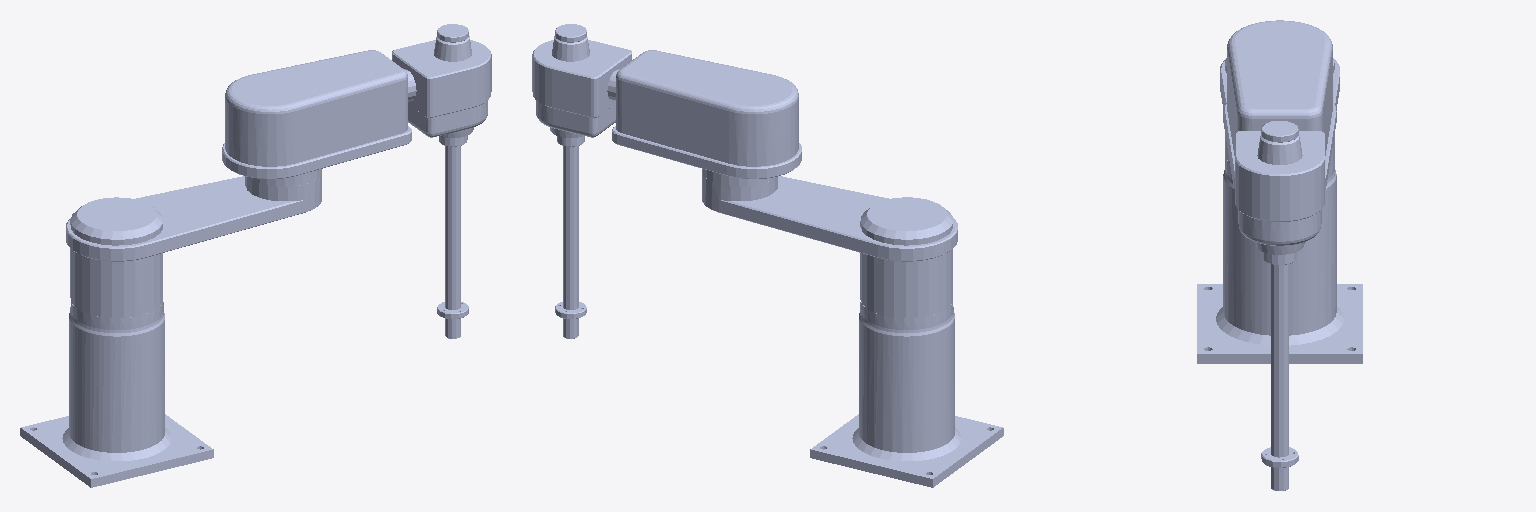
robot.urdf — ROBOT__:
<?xml version="1.0" encoding="utf-8"?>
<!-- This URDF was automatically created by SolidWorks to URDF Exporter! Originally created by [author] ([email redacted]) 
     Commit Version: 1.6.0-4-g7f85cfe  Build Version: 1.6.7995.38578
     For more information, please see http://wiki.ros.org/sw_urdf_exporter -->
<robot
  name="ROBOT__">
  <link
    name="link0">
    <inertial>
      <origin
        xyz="1.38777878078145E-17 -3.05311331771918E-16 0.0992502023025512"
        rpy="0 0 0" />
      <mass
        value="2.36614395016525" />
      <inertia
        ixx="0.0239604232004193"
        ixy="3.27069420018434E-19"
        ixz="-3.28369050018408E-20"
        iyy="0.0239604232004193"
        iyz="3.52967160809808E-17"
        izz="0.0131287866068944" />
    </inertial>
    <visual>
      <origin
        xyz="0 0 0"
        rpy="0 0 0" />
      <geometry>
        <mesh
          filename="package://ROBOT__/meshes/link0.STL" />
      </geometry>
      <material
        name="">
        <color
          rgba="0.792156862745098 0.819607843137255 0.933333333333333 1" />
      </material>
    </visual>
    <collision>
      <origin
        xyz="0 0 0"
        rpy="0 0 0" />
      <geometry>
        <mesh
          filename="package://ROBOT__/meshes/link0.STL" />
      </geometry>
    </collision>
  </link>
  <link
    name="link1">
    <inertial>
      <origin
        xyz="0.0574869815541638 6.65274617339673E-09 0.0796099540199501"
        rpy="0 0 0" />
      <mass
        value="3.68668726873835" />
      <inertia
        ixx="0.0126816223132715"
        ixy="-4.37279856535673E-09"
        ixz="-0.00763034806468519"
        iyy="0.0504684019814241"
        iyz="-8.84822892282731E-10"
        izz="0.0479436803580724" />
    </inertial>
    <visual>
      <origin
        xyz="0 0 0"
        rpy="0 0 0" />
      <geometry>
        <mesh
          filename="package://ROBOT__/meshes/link1.STL" />
      </geometry>
      <material
        name="">
        <color
          rgba="0.792156862745098 0.819607843137255 0.933333333333333 1" />
      </material>
    </visual>
    <collision>
      <origin
        xyz="0 0 0"
        rpy="0 0 0" />
      <geometry>
        <mesh
          filename="package://ROBOT__/meshes/link1.STL" />
      </geometry>
    </collision>
  </link>
  <joint
    name="joint1"
    type="revolute">
    <origin
      xyz="0 0 0.255"
      rpy="0 0 0" />
    <parent
      link="link0" />
    <child
      link="link1" />
    <axis
      xyz="0 0 1" />
    <limit
      lower="-3.0212"
      upper="3.0212"
      effort="0"
      velocity="0" />
  </joint>
  <link
    name="link2">
    <inertial>
      <origin
        xyz="0.0436235567711747 6.80665933242147E-05 -0.0197303381476708"
        rpy="0 0 0" />
      <mass
        value="4.6574337991903" />
      <inertia
        ixx="0.0142576565673701"
        ixy="-7.81626748920301E-09"
        ixz="-0.00150571972490271"
        iyy="0.03594745327186"
        iyz="1.16820022946832E-08"
        izz="0.0339277796618331" />
    </inertial>
    <visual>
      <origin
        xyz="0 0 0"
        rpy="0 0 0" />
      <geometry>
        <mesh
          filename="package://ROBOT__/meshes/link2.STL" />
      </geometry>
      <material
        name="">
        <color
          rgba="0.792156862745098 0.819607843137255 0.933333333333333 1" />
      </material>
    </visual>
    <collision>
      <origin
        xyz="0 0 0"
        rpy="0 0 0" />
      <geometry>
        <mesh
          filename="package://ROBOT__/meshes/link2.STL" />
      </geometry>
    </collision>
  </link>
  <joint
    name="joint2"
    type="revolute">
    <origin
      xyz="0.3 -6.79764686479928E-05 0.245"
      rpy="0 0 0" />
    <parent
      link="link1" />
    <child
      link="link2" />
    <axis
      xyz="0 0 1" />
    <limit
      lower="-2.9137"
      upper="2.9137"
      effort="0"
      velocity="0" />
  </joint>
  <link
    name="link3">
    <inertial>
      <origin
        xyz="6.80372782028704E-05 -0.016017573784558 0.276878946021212"
        rpy="0 0 0" />
      <mass
        value="1.83343892308313" />
      <inertia
        ixx="0.00680664574347923"
        ixy="7.72632032359643E-10"
        ixz="-6.14961283638531E-10"
        iyy="0.00633233079084925"
        iyz="0.00037752167169802"
        izz="0.00381101630008453" />
    </inertial>
    <visual>
      <origin
        xyz="0 0 0"
        rpy="0 0 0" />
      <geometry>
        <mesh
          filename="package://ROBOT__/meshes/link3.STL" />
      </geometry>
      <material
        name="">
        <color
          rgba="0.792156862745098 0.819607843137255 0.933333333333333 1" />
      </material>
    </visual>
    <collision>
      <origin
        xyz="0 0 0"
        rpy="0 0 0" />
      <geometry>
        <mesh
          filename="package://ROBOT__/meshes/link3.STL" />
      </geometry>
    </collision>
  </link>
  <joint
    name="joint3"
    type="revolute">
    <origin
      xyz="0 0 0"
      rpy="1.5707963267949 0 1.5707963267949" />
    <parent
      link="link2" />
    <child
      link="link3" />
    <axis
      xyz="0 0 1" />
    <limit
      lower="-1.5708"
      upper="1.5708"
      effort="0"
      velocity="0" />
  </joint>
  <link
    name="rev">
    <inertial>
      <origin
        xyz="-6.81577913612119E-05 -1.77635683940025E-15 -0.0899999999998803"
        rpy="0 0 0" />
      <mass
        value="0.0235619449019235" />
      <inertia
        ixx="7.63308840051317E-06"
        ixy="-2.03396257720521E-32"
        ixz="-3.55824465161349E-12"
        iyy="7.63308840051897E-06"
        iyz="-1.24938455461464E-26"
        izz="5.4486997585756E-06" />
    </inertial>
    <visual>
      <origin
        xyz="0 0 0"
        rpy="0 0 0" />
      <geometry>
        <mesh
          filename="package://ROBOT__/meshes/rev.STL" />
      </geometry>
      <material
        name="">
        <color
          rgba="0.792156862745098 0.819607843137255 0.933333333333333 1" />
      </material>
    </visual>
    <collision>
      <origin
        xyz="0 0 0"
        rpy="0 0 0" />
      <geometry>
        <mesh
          filename="package://ROBOT__/meshes/rev.STL" />
      </geometry>
    </collision>
  </link>
  <joint
    name="joint4"
    type="revolute">
    <origin
      xyz="0 0 0.304"
      rpy="1.5708 0 3.1416" />
    <parent
      link="link3" />
    <child
      link="rev" />
    <axis
      xyz="0 0 1" />
    <limit
      lower="-3.1416"
      upper="3.1416"
      effort="0"
      velocity="0" />
  </joint>
  <link
    name="link4">
    <inertial>
      <origin
        xyz="-6.83126169275794E-05 -1.88737914186277E-15 -0.185046642873279"
        rpy="0 0 0" />
      <mass
        value="0.286310355481844" />
      <inertia
        ixx="0.00756246607211855"
        ixy="-9.13253923874659E-09"
        ixz="-1.22678917020259E-08"
        iyy="0.00756246006489819"
        iyz="1.48764669988214E-14"
        izz="3.12685498067688E-05" />
    </inertial>
    <visual>
      <origin
        xyz="0 0 0"
        rpy="0 0 0" />
      <geometry>
        <mesh
          filename="package://ROBOT__/meshes/link4.STL" />
      </geometry>
      <material
        name="">
        <color
          rgba="0.792156862745098 0.819607843137255 0.933333333333333 1" />
      </material>
    </visual>
    <collision>
      <origin
        xyz="0 0 0"
        rpy="0 0 0" />
      <geometry>
        <mesh
          filename="package://ROBOT__/meshes/link4.STL" />
      </geometry>
    </collision>
  </link>
  <joint
    name="Joint 5"
    type="prismatic">
    <origin
      xyz="0 0 0"
      rpy="0 0 0" />
    <parent
      link="rev" />
    <child
      link="link4" />
    <axis
      xyz="0 0 1" />
    <limit
      lower="0"
      upper="0.285"
      effort="0"
      velocity="0" />
  </joint>
  <link
    name="EE">
    <inertial>
      <origin
        xyz="7.16682612256214E-07 -0.36615369045642 0.315069109593091"
        rpy="0 0 0" />
      <mass
        value="12.8535762415608" />
      <inertia
        ixx="0.942043552569022"
        ixy="1.18250769519201E-07"
        ixz="3.23929643240952E-08"
        iyy="0.321393935129747"
        iyz="-0.304412327516246"
        izz="0.659546700283321" />
    </inertial>
    <visual>
      <origin
        xyz="0 0 0"
        rpy="0 0 0" />
      <geometry>
        <mesh
          filename="package://ROBOT__/meshes/EE.STL" />
      </geometry>
      <material
        name="">
        <color
          rgba="1 1 1 1" />
      </material>
    </visual>
    <collision>
      <origin
        xyz="0 0 0"
        rpy="0 0 0" />
      <geometry>
        <mesh
          filename="package://ROBOT__/meshes/EE.STL" />
      </geometry>
    </collision>
  </link>
  <joint
    name="fixed_end"
    type="fixed">
    <origin
      xyz="-6.8744E-05 0 -0.45"
      rpy="0 0 0" />
    <parent
      link="link4" />
    <child
      link="EE" />
    <axis
      xyz="0 0 0" />
  </joint>
</robot>

--- Facts derived from the render (not from the file) ---
3 views of the same robot in one strip: view 1: azimuth 30°, elevation 25°; view 2: azimuth 150°, elevation 25°; view 3: azimuth 270°, elevation 25° (orthographic).
Model ROBOT__ with 7 links and 6 joints (4 revolute, 1 prismatic, 1 fixed), rooted at link0, posed every joint at zero.
Links seen in each view (by area): view 1: link2, link0, link1, link3, link4; view 2: link2, link0, link1, link3, link4; view 3: link0, link2, link3, link4, link1.
Boxes of the visible links, bbox=[...] form: link2: bbox=[222, 50, 411, 186]; link0: bbox=[20, 302, 213, 487]; link1: bbox=[66, 174, 321, 317]; link3: bbox=[392, 36, 491, 146]; link4: bbox=[437, 24, 468, 338]; link2: bbox=[612, 50, 801, 186]; link0: bbox=[810, 302, 1003, 487]; link1: bbox=[702, 174, 957, 317]; link3: bbox=[532, 36, 631, 146]; link4: bbox=[555, 24, 586, 338]; link0: bbox=[1197, 156, 1362, 363]; link2: bbox=[1223, 20, 1336, 188]; link3: bbox=[1235, 131, 1324, 264]; link4: bbox=[1261, 121, 1298, 490]; link1: bbox=[1220, 58, 1339, 162].
Bounding box of the posed robot: 0.774 × 0.22 × 0.575 m (x, y, z).
Meshes: 7 distinct files referenced, 5 mesh visuals loaded (5 binary STL); not drawn: 2 (reference not matched to a file when rendering).